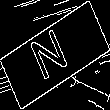N_SE: (32, 23, 78, 87)
